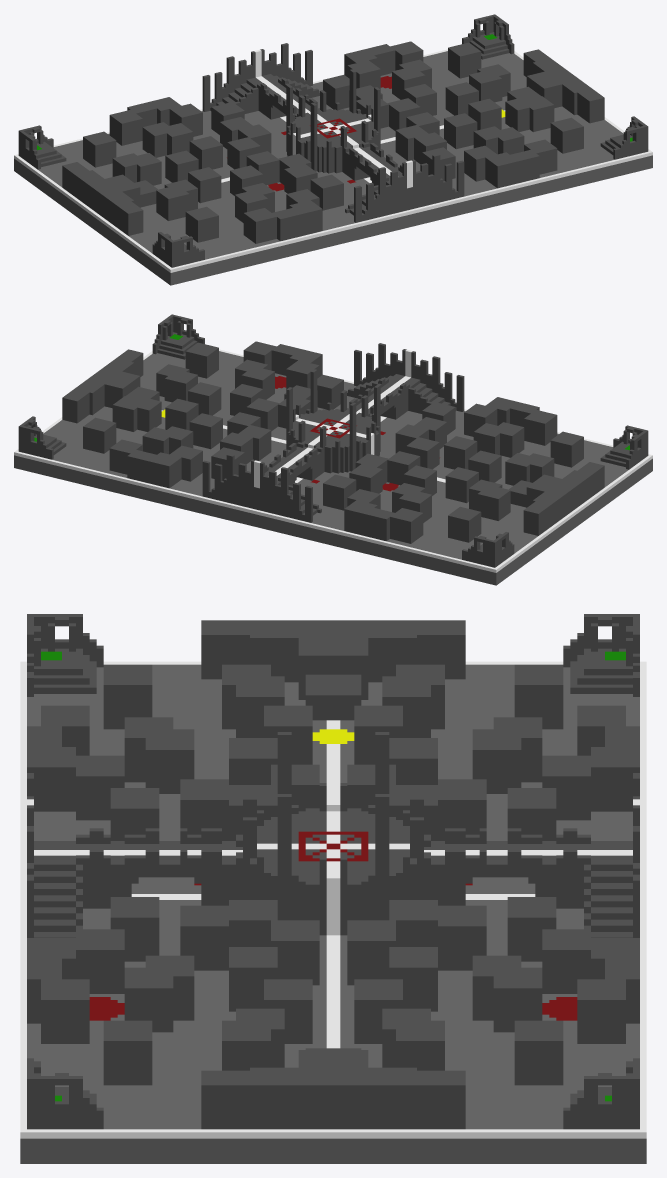
Rendered from blockout.obj.
3 views of the same model, one above another, from view 1: azimuth 30°, elevation 25°; view 2: azimuth 150°, elevation 25°; view 3: azimuth 270°, elevation 25° (orthographic). The views are drawn at different scales.
Bounding box in the file's own units: 16 × 2.6 × 9.
